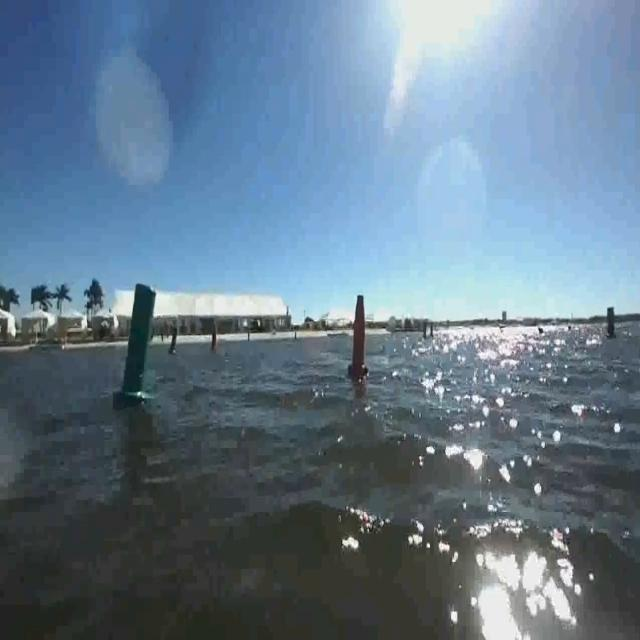green-column-buoy: (116, 282, 160, 409), (606, 307, 620, 343), (169, 328, 180, 354)
red-column-buoy: (348, 292, 369, 379), (211, 327, 221, 355)
